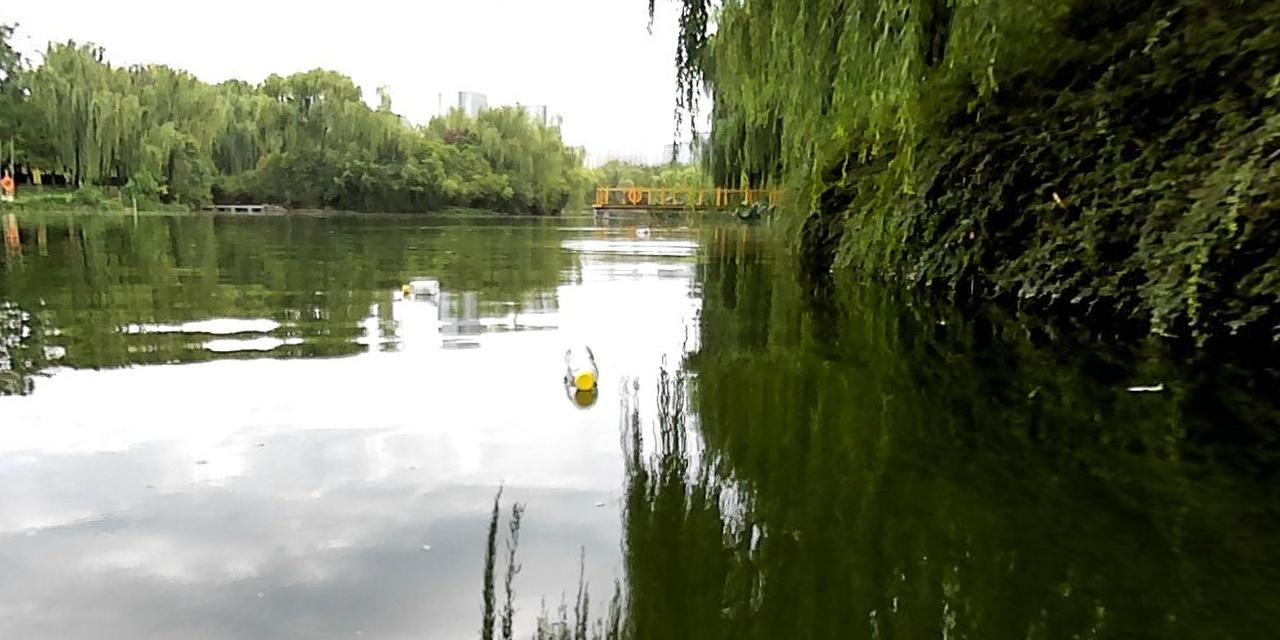bottle: (564, 344, 597, 391), (401, 279, 440, 293), (635, 227, 650, 233)
